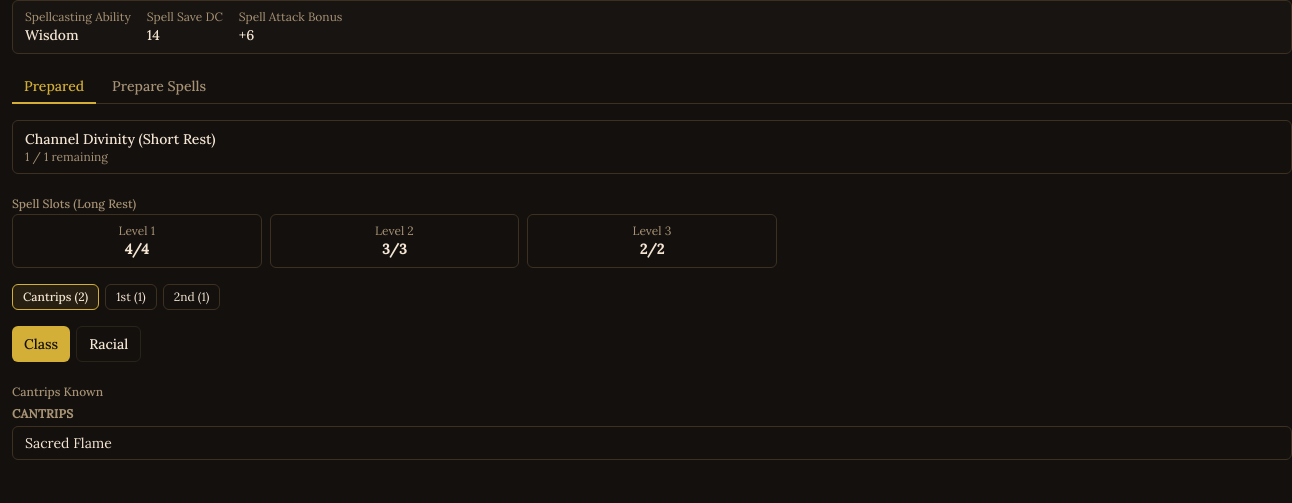
ClericSheet — unified Spells tab layout › folds race-granted cantrips into the strip as a per-level source toggle
The width and height of the screenshot is (1292, 503).
Expected: the button with test id "spell-source-class" is shown, [12,326,70,362]
Click the button with test id "spell-source-racial" at {"x": 109, "y": 344}, box [76,326,141,362]
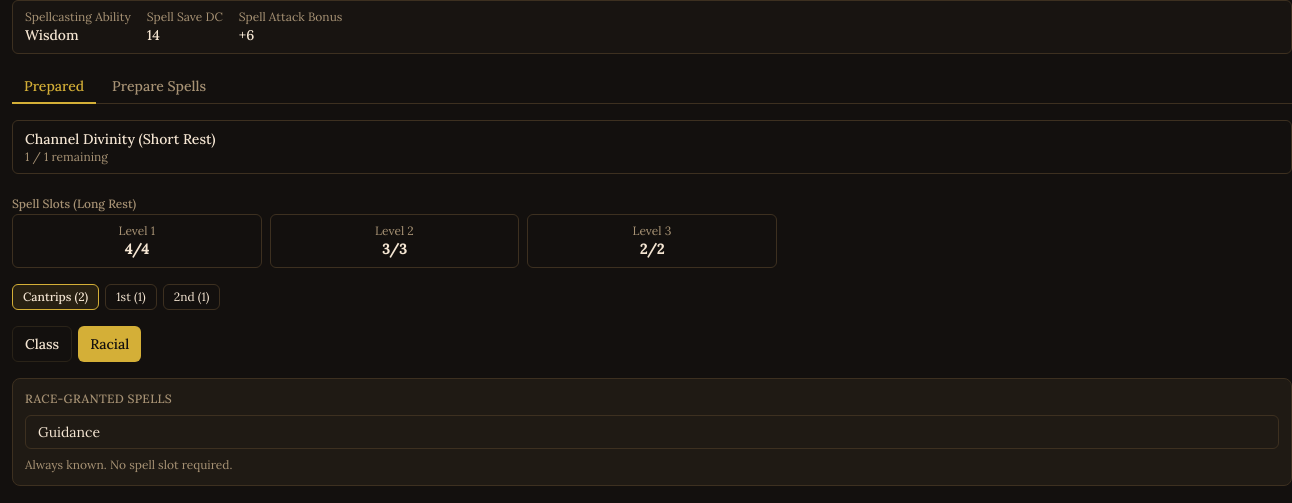
Result: the button "Guidance" is shown at [38,422,1258,442]
